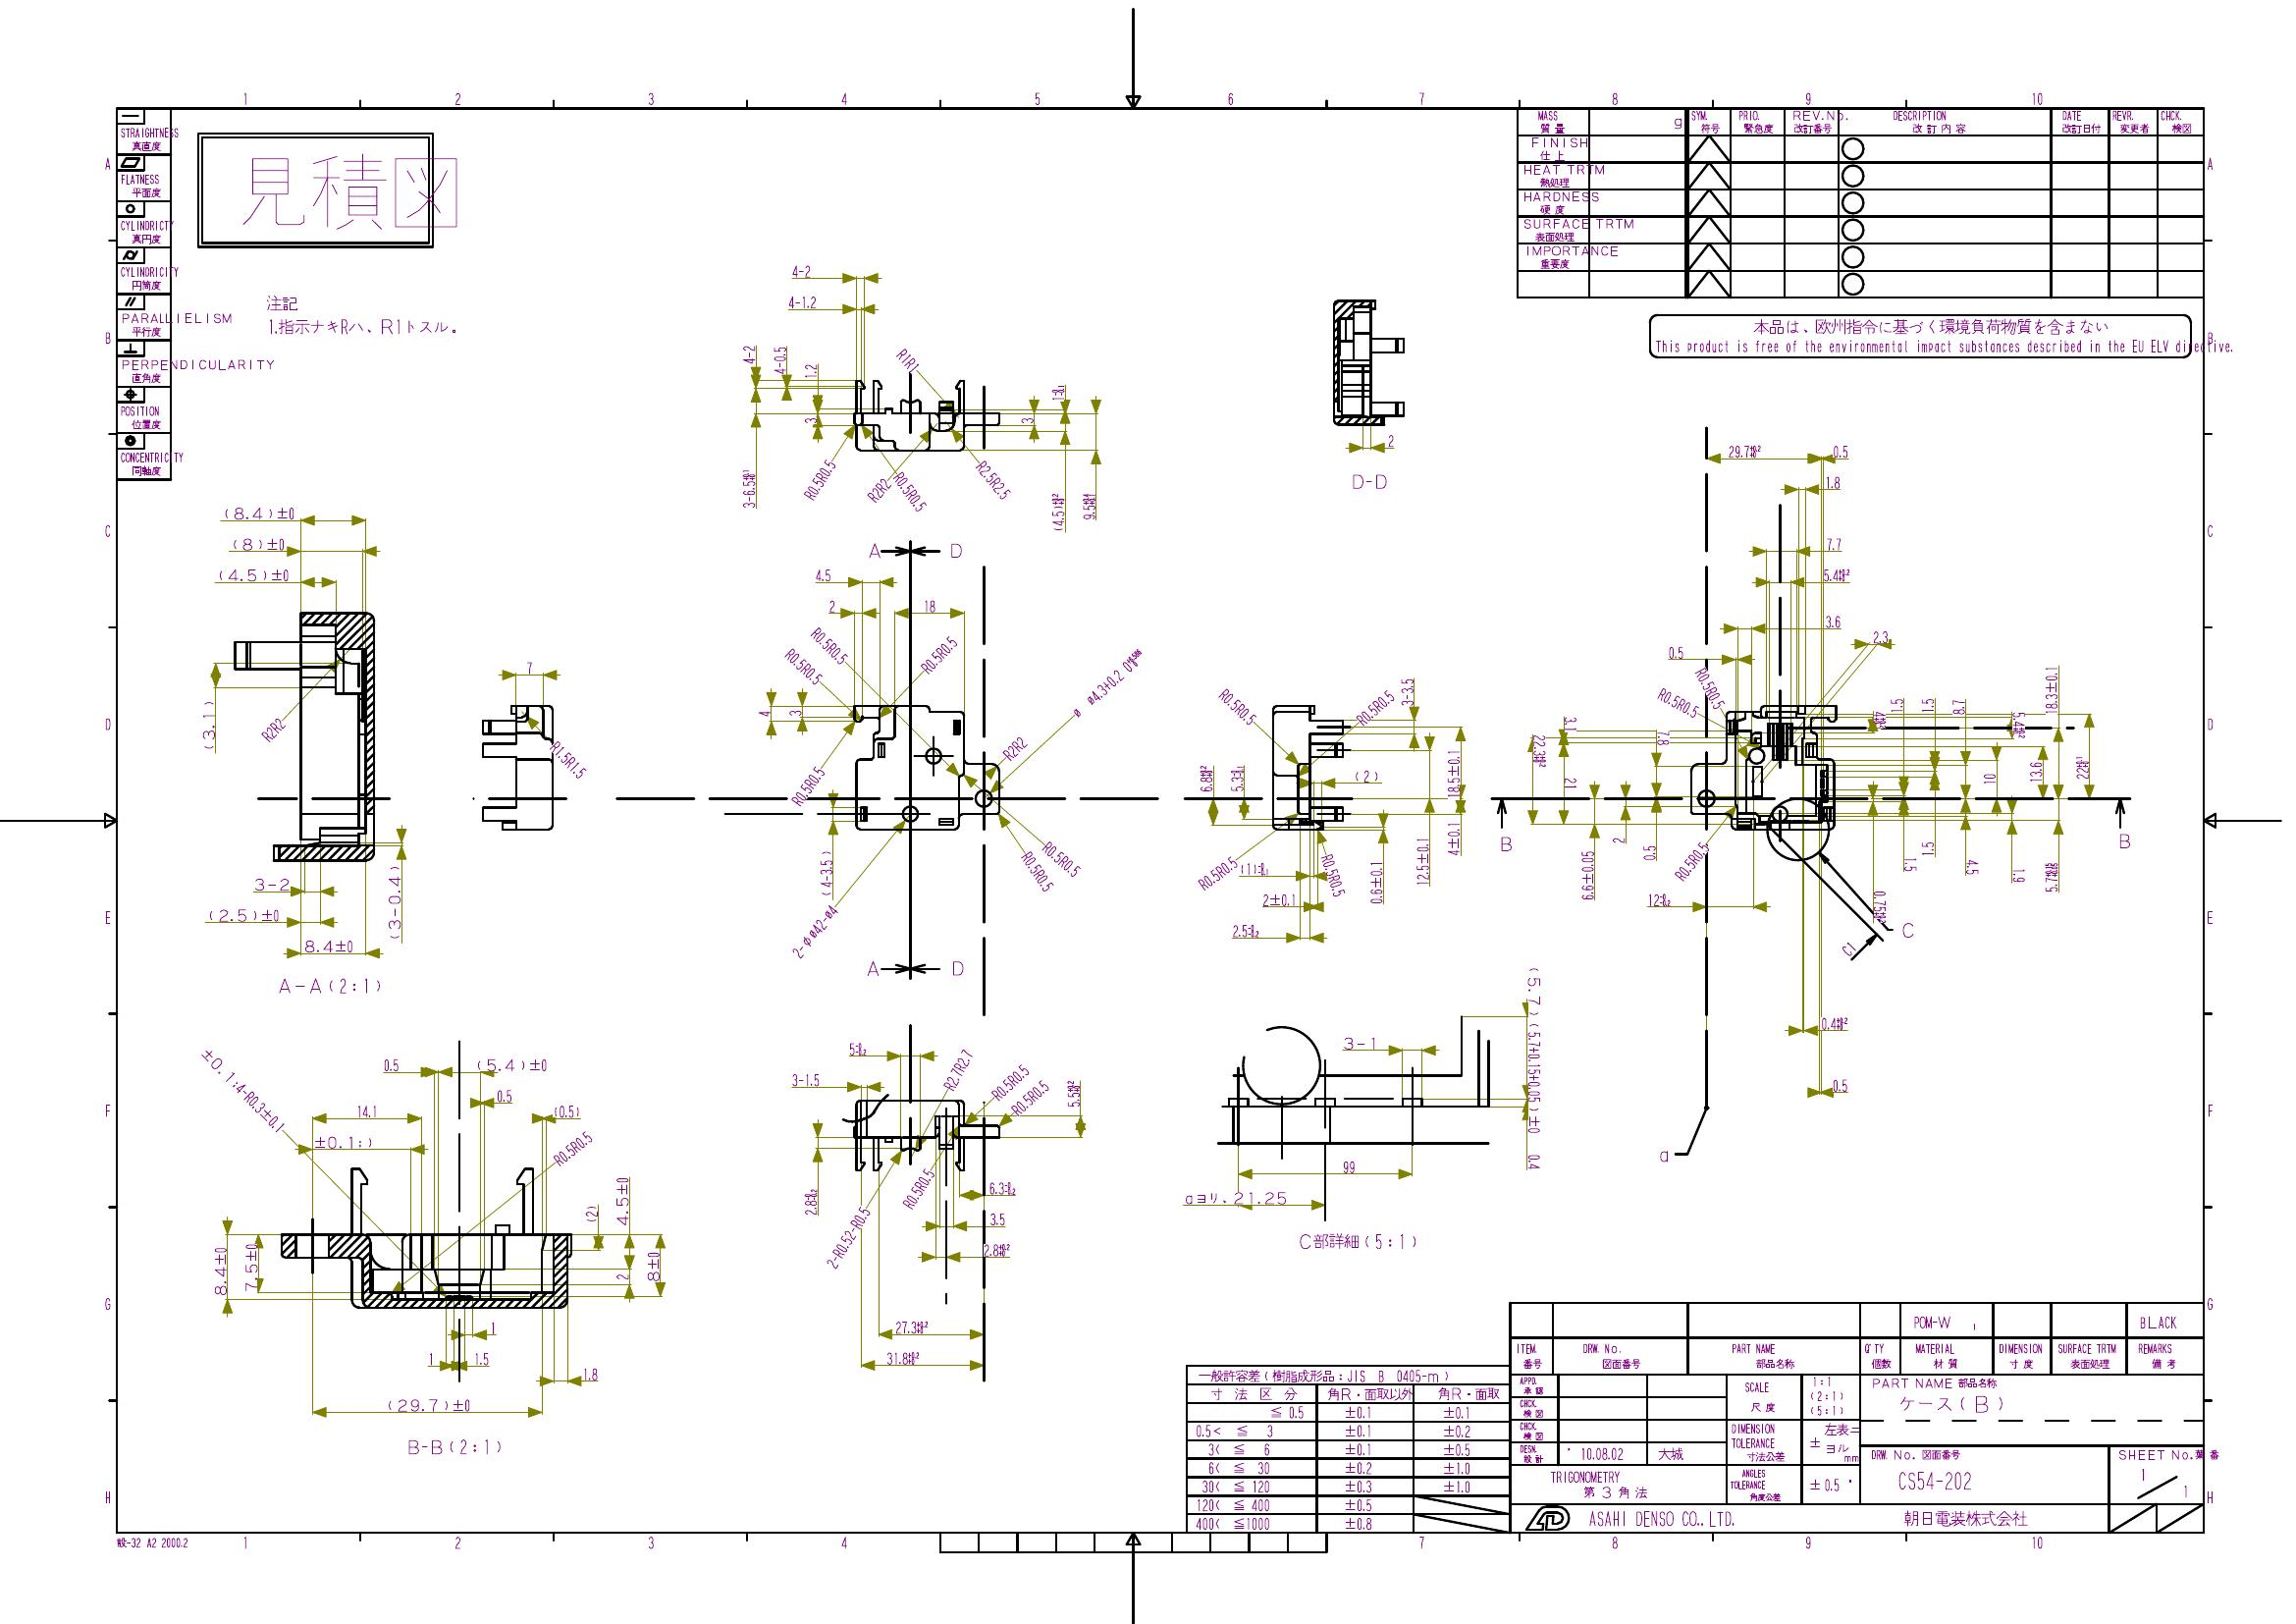anntotation_text: (195, 130, 462, 248), (1650, 313, 2235, 359), (264, 294, 458, 337), (1296, 1232, 1418, 1251), (406, 1436, 502, 1457), (278, 975, 381, 995), (114, 1534, 188, 1550), (1349, 473, 1386, 490), (1901, 921, 1917, 940), (949, 960, 964, 977), (866, 541, 882, 559), (864, 958, 878, 977), (2119, 830, 2131, 851), (949, 541, 963, 559), (1500, 835, 1513, 852), (1658, 1149, 1669, 1164)
dimension_text: (1525, 967, 1542, 1171), (184, 1081, 299, 1097), (1184, 1188, 1286, 1206), (1061, 675, 1156, 691), (474, 1055, 546, 1074), (388, 1397, 471, 1413), (220, 504, 295, 520), (206, 907, 279, 923), (216, 566, 288, 582), (386, 865, 401, 939), (813, 1232, 882, 1246), (313, 1134, 372, 1149), (613, 1176, 631, 1227), (242, 1241, 260, 1292), (1579, 849, 1597, 900), (1446, 749, 1463, 798), (782, 923, 850, 935), (931, 1062, 984, 1077), (1367, 859, 1384, 905), (213, 1243, 227, 1299), (200, 700, 216, 749), (778, 657, 827, 673), (1414, 837, 1430, 886), (2043, 666, 2059, 715), (915, 647, 963, 663), (817, 849, 833, 896), (1309, 866, 1356, 882), (987, 1074, 1033, 1090), (1038, 851, 1084, 866), (1005, 1090, 1056, 1104), (304, 939, 355, 953), (896, 1181, 940, 1197), (1353, 700, 1397, 715), (1688, 680, 1732, 696), (230, 538, 286, 550), (970, 473, 1017, 487), (740, 468, 755, 510), (253, 875, 290, 893), (1260, 891, 1296, 909), (1446, 821, 1463, 858), (796, 473, 841, 487), (785, 779, 831, 793), (1014, 865, 1059, 879), (1214, 700, 1260, 714), (1669, 854, 1715, 868), (1049, 490, 1065, 531), (1342, 1033, 1377, 1051), (546, 752, 590, 766), (1195, 866, 1238, 881), (1530, 733, 1548, 768), (548, 1141, 597, 1153), (1657, 696, 1699, 710), (645, 1250, 662, 1283), (884, 1348, 921, 1364), (805, 640, 852, 652), (887, 485, 933, 497), (1238, 859, 1270, 877), (1727, 443, 1760, 459), (2010, 710, 2027, 740), (1871, 888, 1885, 924), (1816, 1014, 1848, 1030), (978, 1241, 1010, 1257), (1065, 1077, 1080, 1109), (803, 1186, 819, 1218), (1398, 675, 1414, 707), (892, 1320, 928, 1334), (1228, 765, 1245, 793), (1644, 889, 1672, 907), (791, 1070, 820, 1086), (1080, 490, 1096, 520), (1230, 923, 1260, 939), (1198, 763, 1214, 793), (1822, 566, 1852, 582), (2043, 861, 2059, 891), (987, 1181, 1019, 1195), (771, 346, 787, 374), (258, 722, 286, 738), (1000, 742, 1031, 756), (787, 294, 817, 308), (2073, 754, 2089, 780), (379, 1056, 402, 1074), (864, 483, 892, 497), (2027, 759, 2043, 784), (1871, 710, 1888, 731), (550, 1104, 580, 1116), (1827, 1077, 1850, 1093), (355, 1102, 378, 1118), (789, 264, 812, 279), (1354, 768, 1379, 782), (1948, 696, 1966, 715), (1964, 858, 1982, 877), (847, 1039, 864, 1056), (473, 1350, 490, 1367), (813, 566, 833, 582), (1823, 536, 1843, 552), (1823, 613, 1843, 629), (1871, 627, 1890, 643), (896, 353, 921, 366), (1841, 940, 1857, 958), (583, 1204, 599, 1222), (1051, 383, 1066, 401), (1655, 729, 1671, 747), (1888, 696, 1904, 714), (1641, 844, 1657, 861), (741, 344, 755, 364), (1823, 475, 1843, 489), (1340, 1158, 1356, 1174), (581, 1364, 597, 1380), (1918, 840, 1934, 856), (803, 362, 817, 380), (1830, 445, 1850, 457), (989, 1211, 1005, 1225), (495, 1088, 511, 1102), (922, 598, 936, 613), (1563, 715, 1578, 731), (1667, 645, 1683, 659), (1918, 698, 1934, 712), (2011, 866, 2025, 882), (1901, 858, 1917, 872), (1982, 772, 1997, 784), (1563, 775, 1576, 789), (1386, 432, 1397, 448), (826, 598, 836, 613), (787, 707, 801, 717), (523, 659, 532, 675), (755, 708, 769, 717), (613, 1272, 629, 1280), (803, 415, 815, 424), (1019, 417, 1033, 424), (1611, 835, 1625, 842), (429, 1348, 434, 1366), (490, 1318, 495, 1334)
object: (279, 1167, 573, 1309), (232, 610, 376, 863), (1216, 1014, 1491, 1146), (850, 703, 1001, 831), (1688, 703, 1838, 831), (850, 378, 1001, 453), (850, 1098, 1000, 1171), (1270, 703, 1346, 831), (1332, 299, 1405, 427), (481, 703, 553, 831)
title_block: (1184, 1299, 2205, 1534), (1514, 105, 2206, 301), (114, 107, 172, 480)
